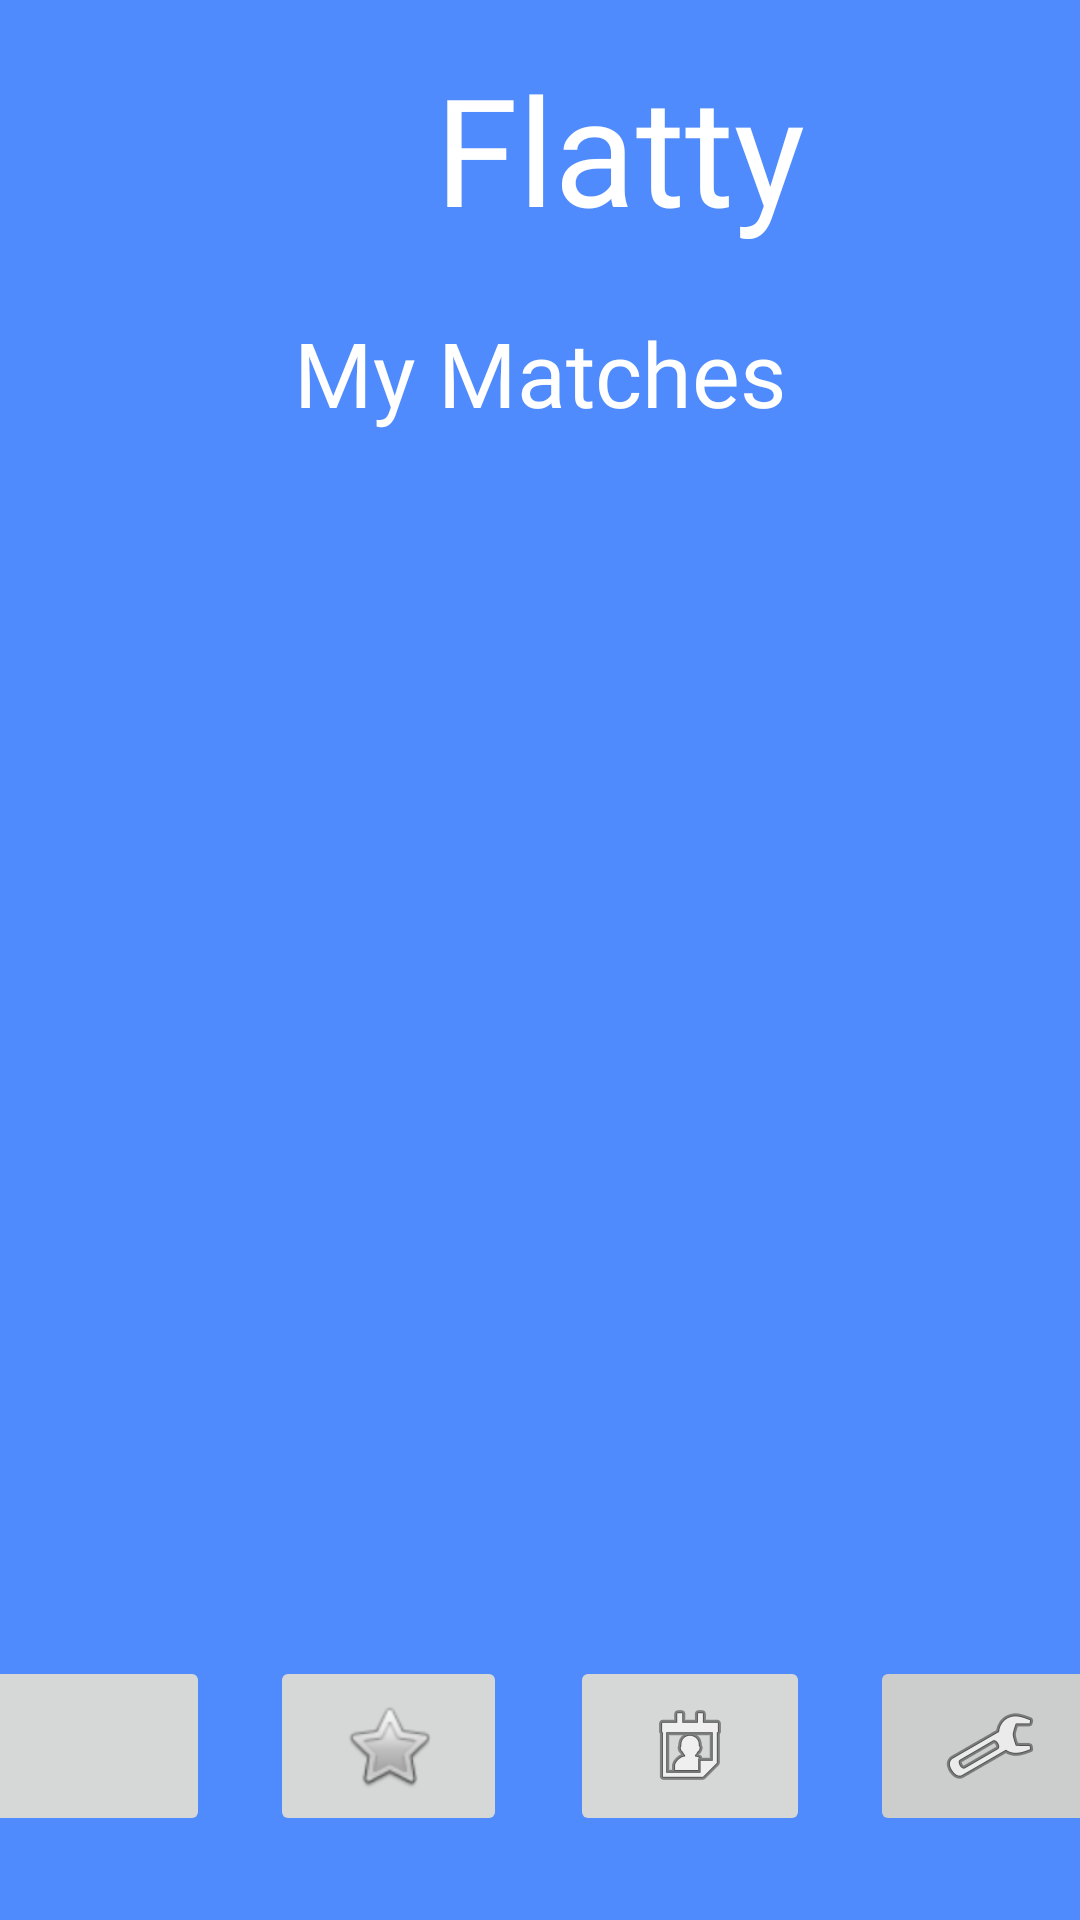

Where icons sit on this 1080px×1920px app screen, as (x1, y1, x2, y2):
Button for profile: (582, 1674, 798, 1818)
star: (282, 1674, 495, 1818)
